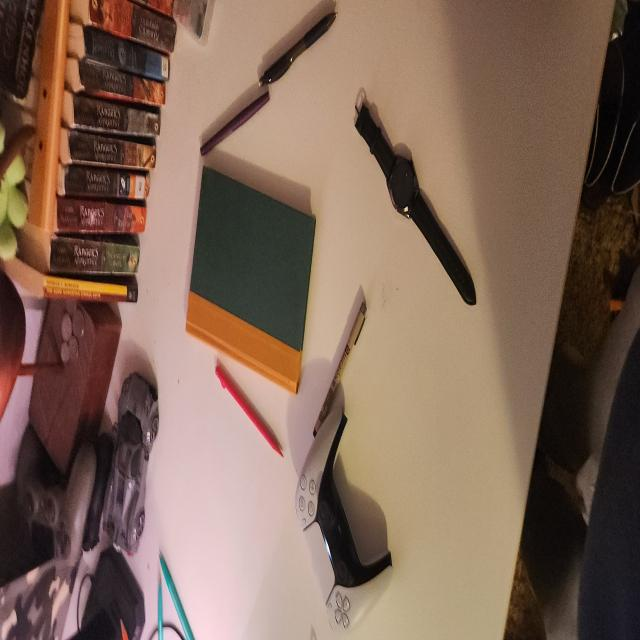Book: (187, 167, 315, 380)
Controller: (314, 440, 391, 589)
Pen: (217, 361, 283, 454), (201, 92, 269, 160)
Watch: (354, 95, 478, 305)
